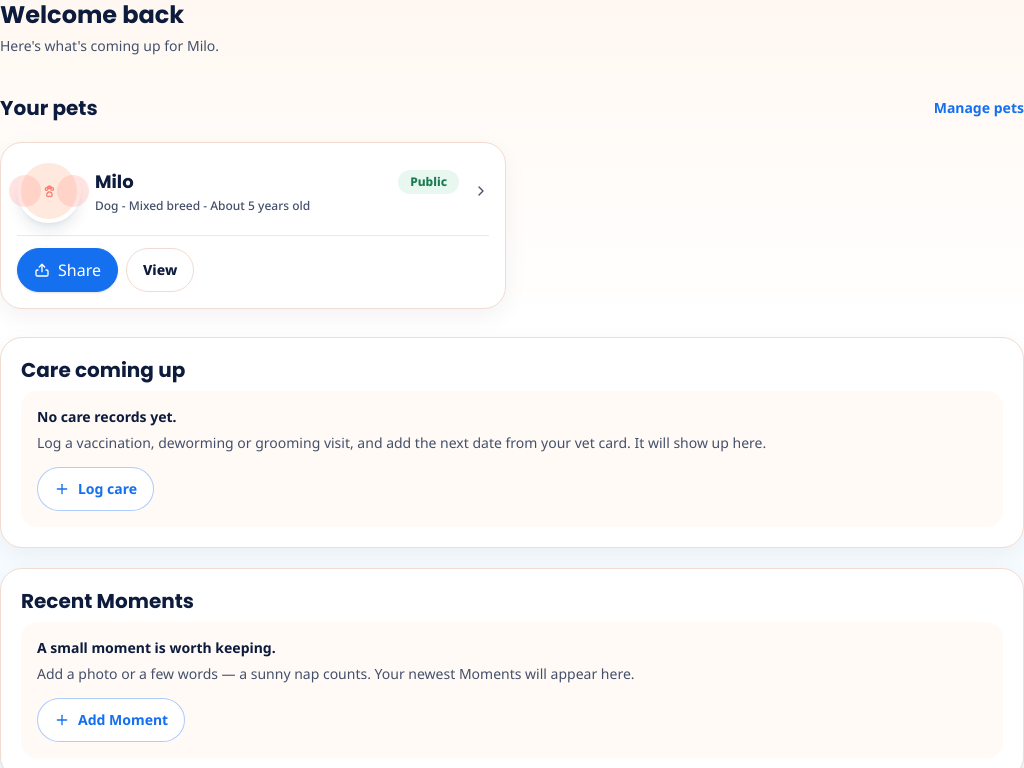
Test case: Dashboard sharing › opens the Share Center from the pet card with its four first choices
Click the button with aria-label "Share Milo". click: x=68, y=270
box: [17,248,118,292]
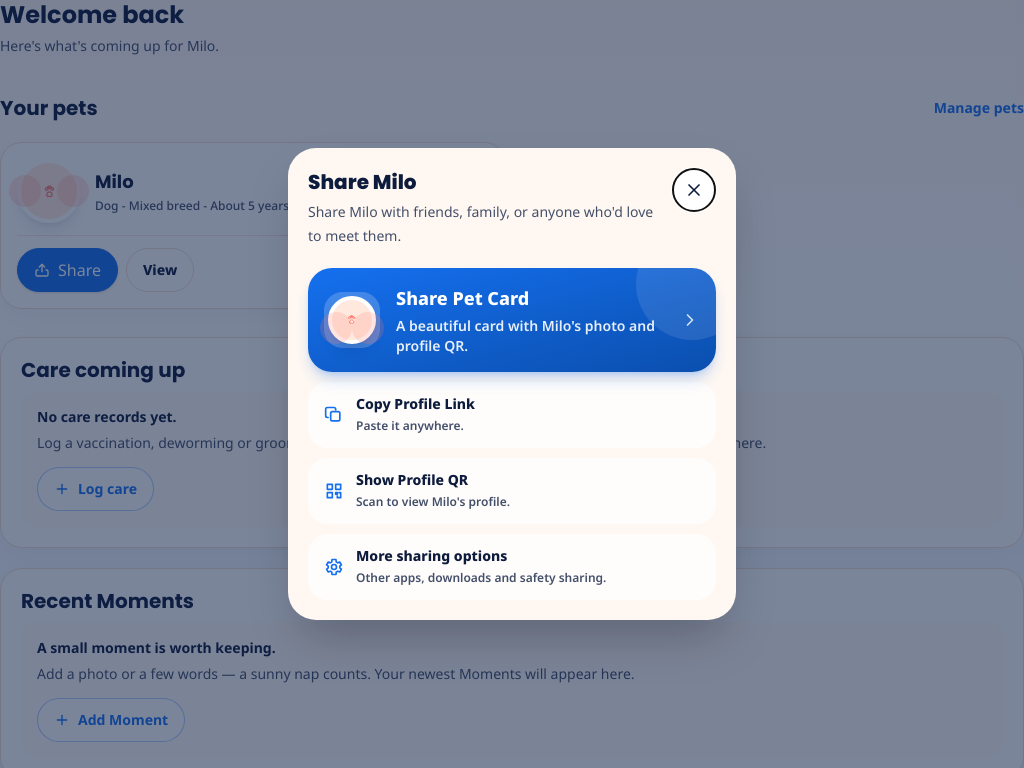
Check: the heading "Share Milo" is shown, box [308,168,417,196]
Check: the button "Copy Profile Link Paste it anywhere." is shown, box [308,382,716,448]
Check: the button "Show Profile QR Scan to view Milo's profile." is shown, box [308,458,716,524]
